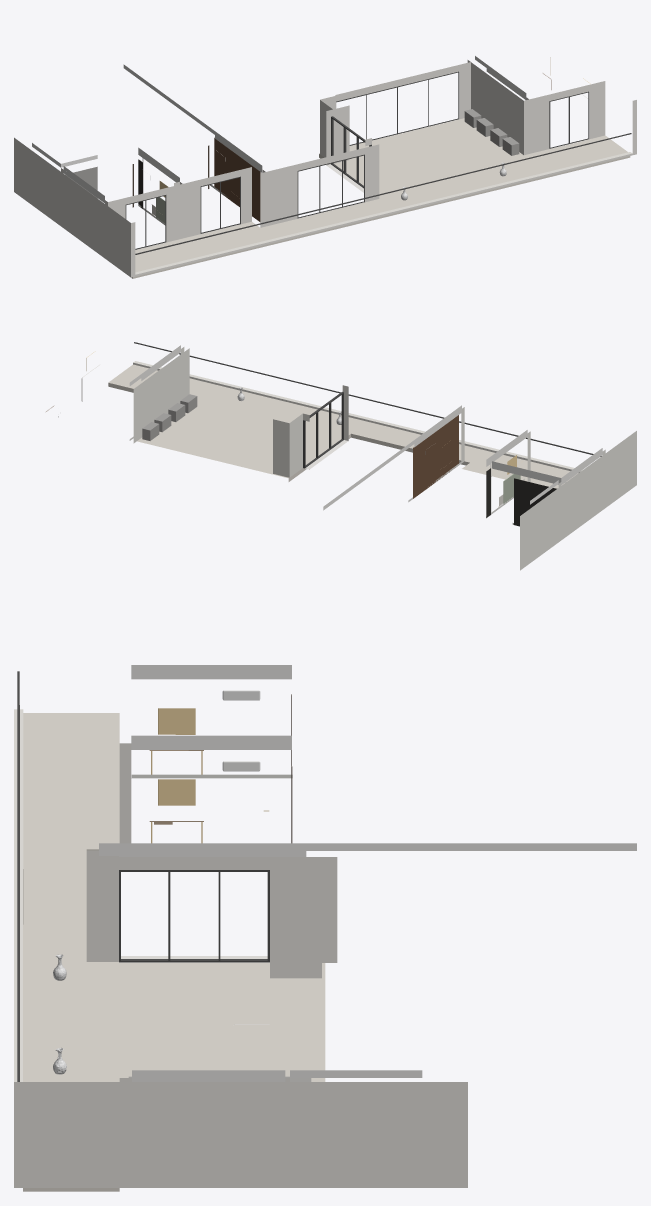
Rendered from TERRACE.glb.
3 views of the same model, one above another, from view 1: azimuth 30°, elevation 25°; view 2: azimuth 150°, elevation 25°; view 3: azimuth 270°, elevation 25° (orthographic). The views are drawn at different scales.
Parts seen in each view (by area): view 1: WEB_TERRACE; view 2: WEB_TERRACE; view 3: WEB_TERRACE.
Part boxes in pixels (bbox=[...]): WEB_TERRACE: bbox=[14, 56, 636, 278]; WEB_TERRACE: bbox=[45, 342, 636, 570]; WEB_TERRACE: bbox=[14, 665, 636, 1191].
Size of the model in its own units: 27.14 by 3.2 by 14.92.
